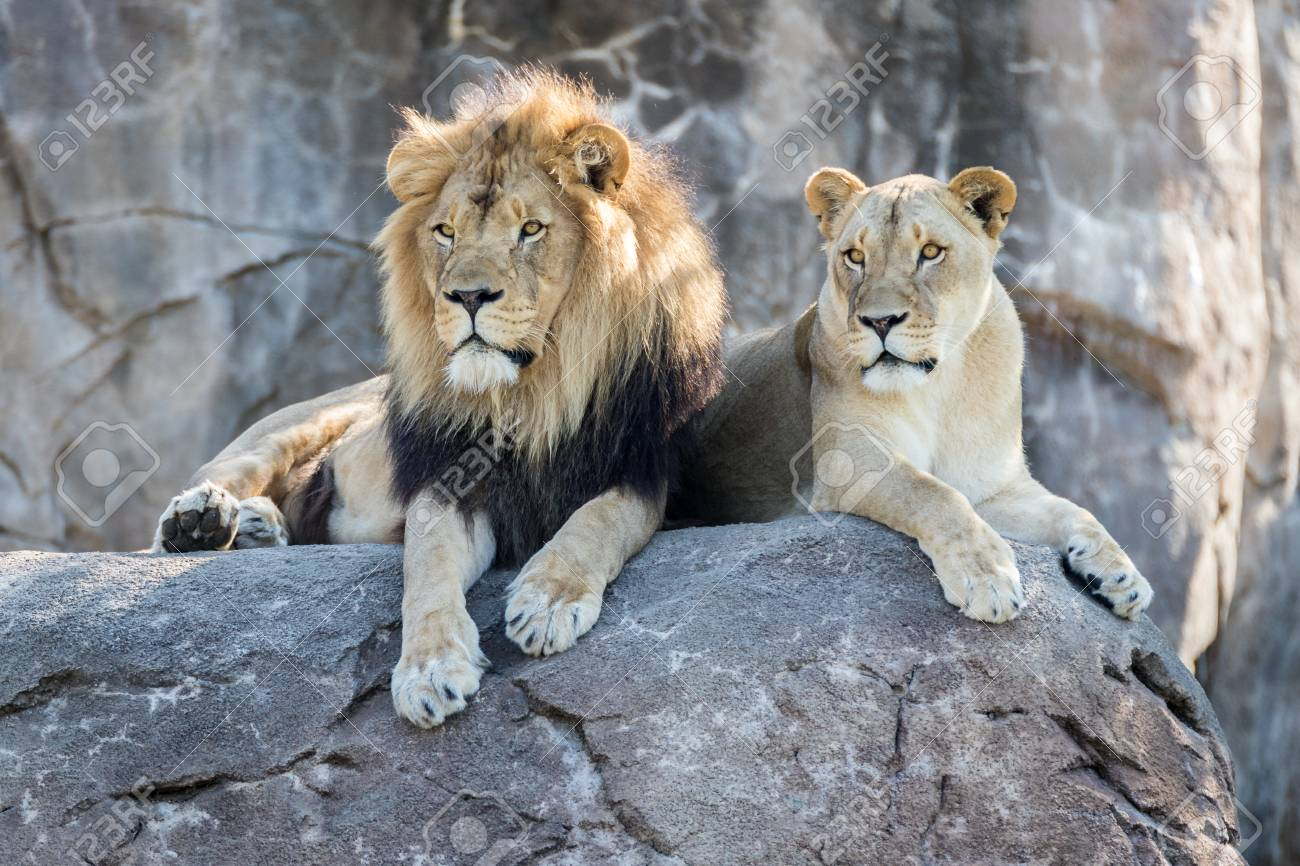lion: (161, 62, 739, 725), (627, 160, 1147, 603)
